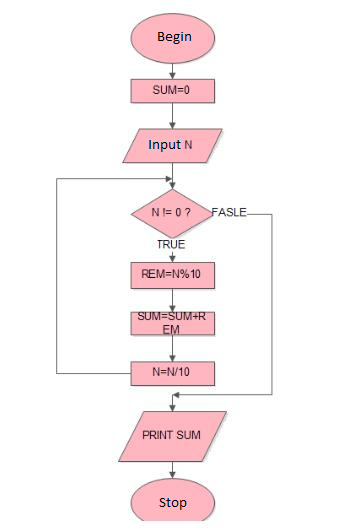arrow: (54, 176, 173, 376), (171, 212, 275, 400), (166, 101, 180, 131), (166, 384, 180, 414), (167, 160, 177, 190), (167, 459, 180, 480), (168, 60, 178, 78)
data: (117, 408, 230, 464), (121, 127, 226, 165)
decision: (129, 188, 217, 239)
process: (128, 260, 218, 293), (128, 309, 217, 338), (129, 359, 217, 388), (129, 77, 217, 105)
terminator: (128, 11, 218, 65), (129, 478, 217, 526)
text: (140, 427, 203, 442), (140, 267, 200, 280), (149, 205, 194, 220), (147, 139, 194, 153), (156, 30, 193, 47), (150, 364, 191, 378), (210, 206, 248, 221), (157, 496, 188, 513), (154, 237, 190, 251), (151, 84, 192, 96)
